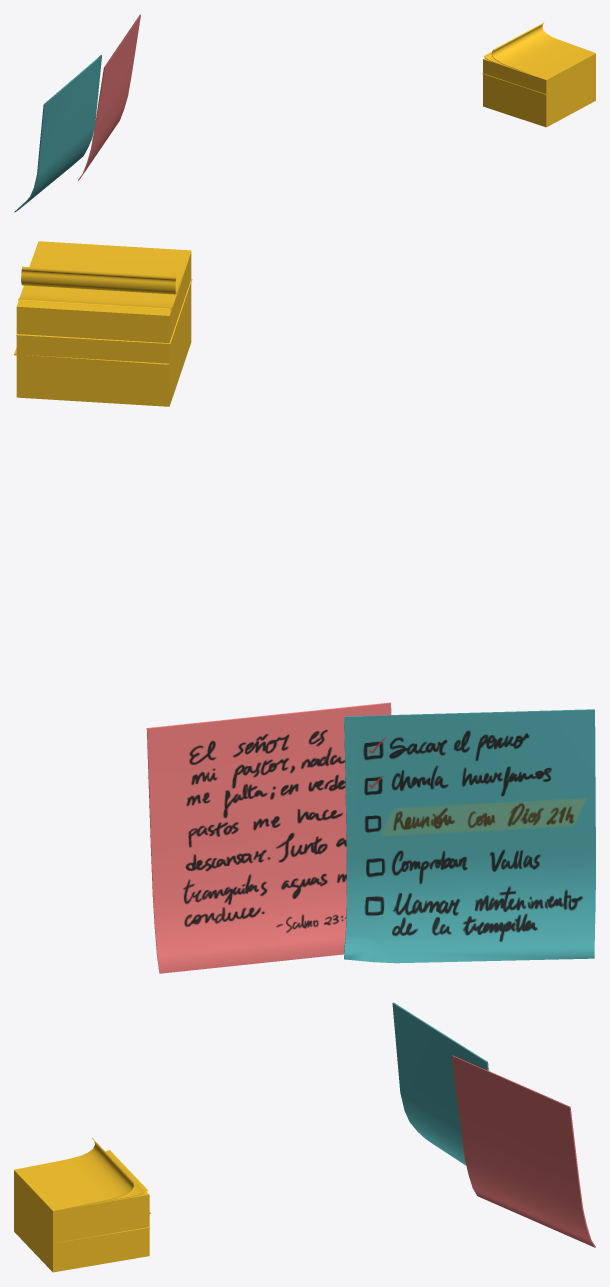
The model's file is escritorio_posits.fbx.
3 renders of one model, top to bottom at view 1: azimuth 30°, elevation 25°; view 2: azimuth 150°, elevation 25°; view 3: azimuth 270°, elevation 25°, orthographic. The views are drawn at different scales.
Parts seen in each view (by area): view 1: escritorio_bloquePosits, escritorio_posit1, escritorio_posit2; view 2: escritorio_posit1, escritorio_posit2, escritorio_bloquePosits; view 3: escritorio_posit2, escritorio_bloquePosits, escritorio_posit1.
Boxes of the visible parts, box(x1,y1,x2,y2) form: escritorio_bloquePosits: box(482, 22, 595, 127); escritorio_posit1: box(14, 55, 101, 212); escritorio_posit2: box(78, 14, 140, 180); escritorio_posit1: box(344, 709, 595, 963); escritorio_posit2: box(146, 702, 391, 973); escritorio_bloquePosits: box(14, 241, 192, 406); escritorio_posit2: box(452, 1055, 595, 1247); escritorio_bloquePosits: box(14, 1138, 150, 1272); escritorio_posit1: box(392, 1002, 488, 1165).
Bounding box in the file's own units: 42.75 × 16.44 × 38.13.
Materials: 1 (1 with a texture image).
